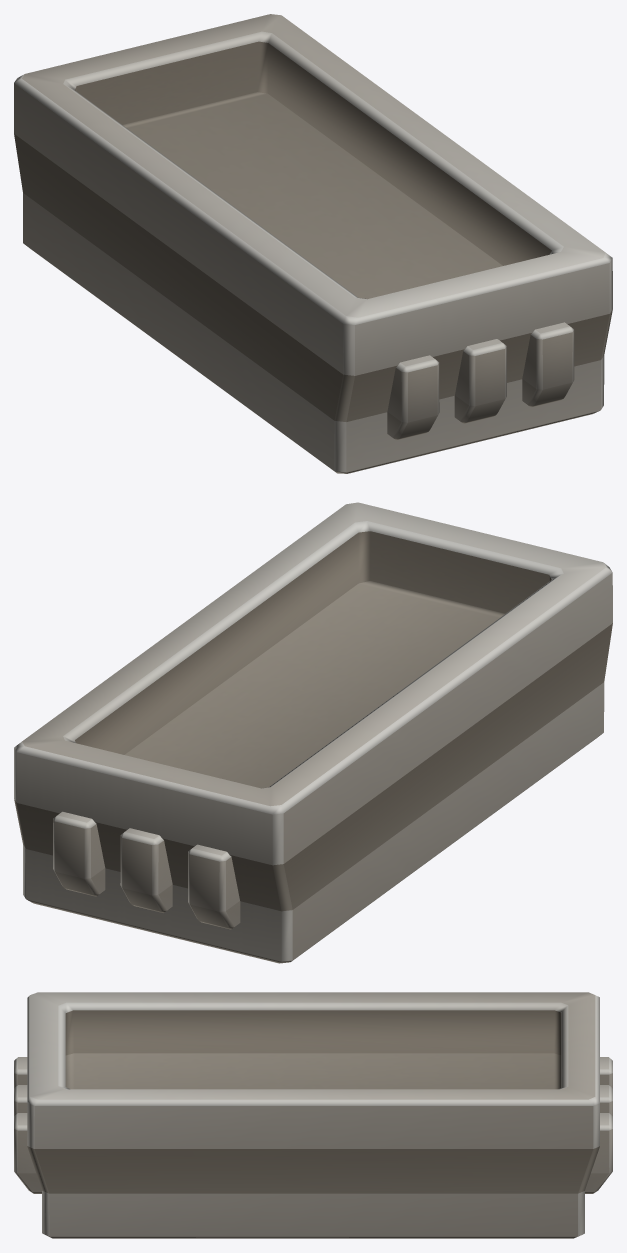
The model's file is appartment_type1_roof_type2_x2.fbx.
3 views of the same model, one above another, from view 1: azimuth 30°, elevation 25°; view 2: azimuth 150°, elevation 25°; view 3: azimuth 270°, elevation 25° (orthographic). The views are drawn at different scales.
Parts seen in each view (by area): view 1: appartment_type1_roof_type2_x2; view 2: appartment_type1_roof_type2_x2; view 3: appartment_type1_roof_type2_x2.
Boxes of the visible parts, x1,y1,x2,y2 form: appartment_type1_roof_type2_x2: (14,14,612,473); appartment_type1_roof_type2_x2: (14,502,612,963); appartment_type1_roof_type2_x2: (14,992,612,1238).
Size of the model in its own units: 400 by 232 by 907.
